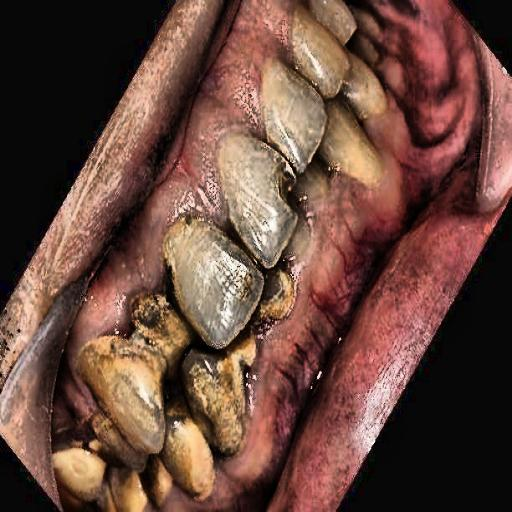Calculus: (45, 196, 273, 502)
